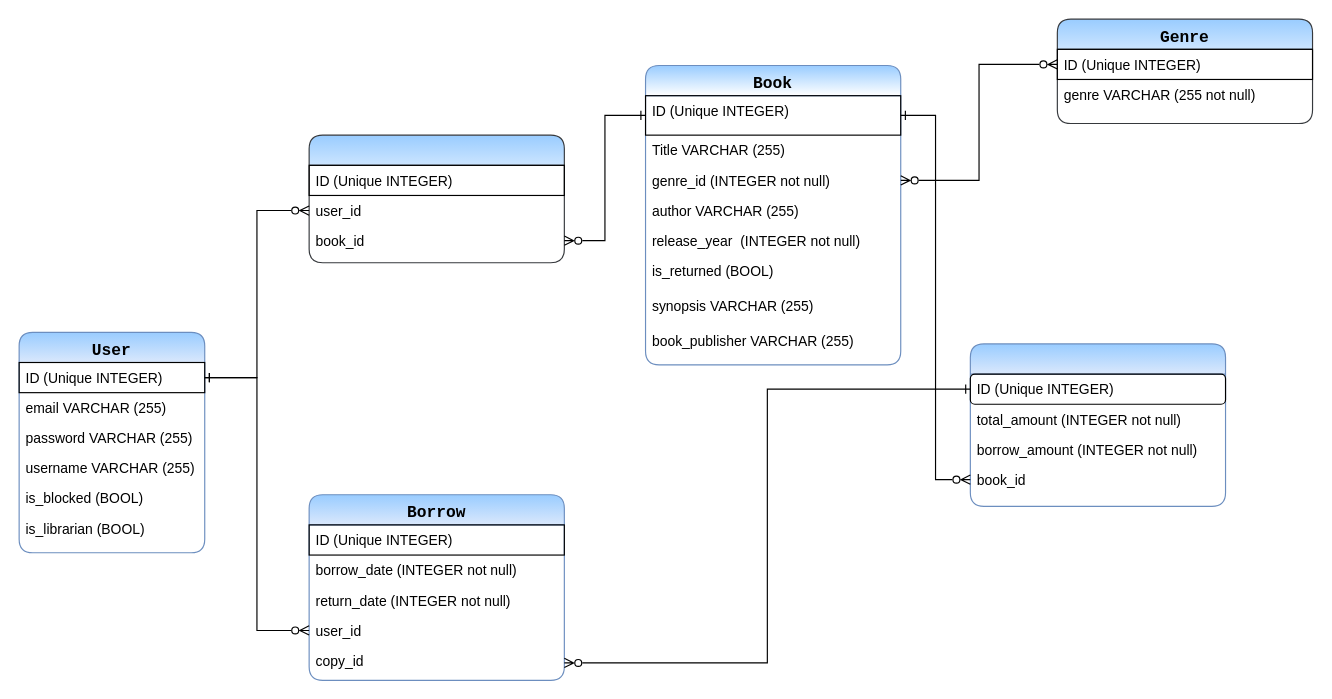
The diagram is 1332 pixels wide and 699 high, and some of its shapes have lost their labels. Here are the shapes that lost their labels. From the top down, the box of each, then its label:
(308, 134, 564, 263): Follow
(969, 343, 1226, 506): Copy
